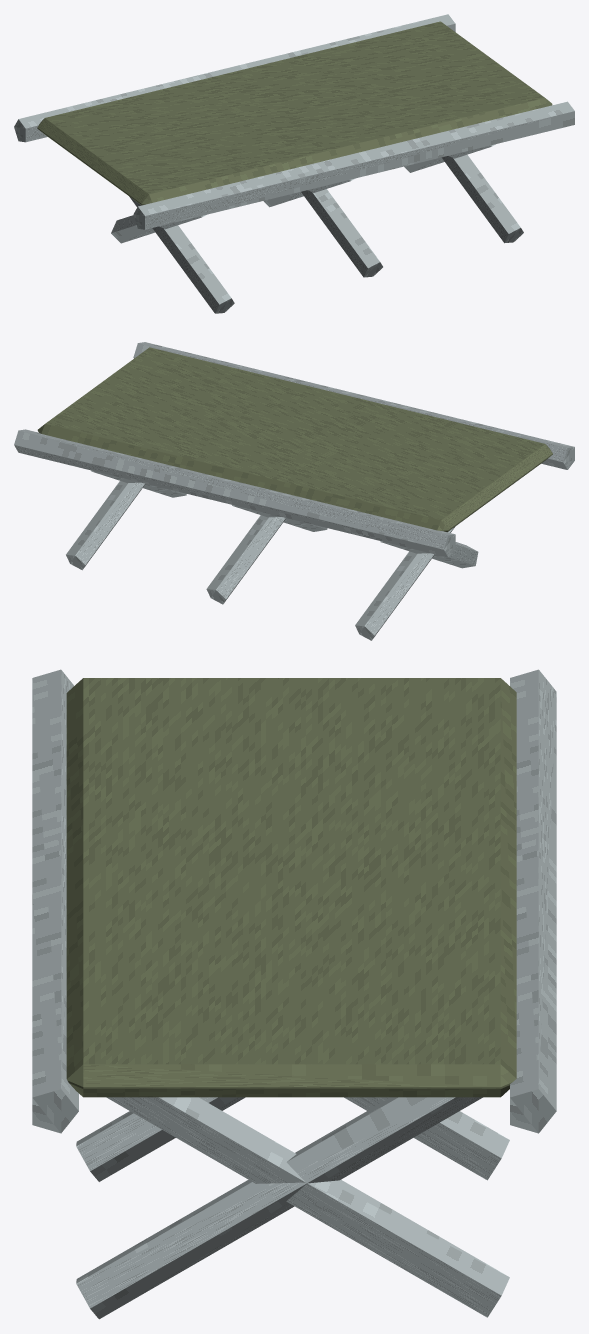
The model's file is cot.glb.
3 views of the same model, one above another, from view 1: azimuth 30°, elevation 25°; view 2: azimuth 150°, elevation 25°; view 3: azimuth 270°, elevation 25° (orthographic). The views are drawn at different scales.
Parts seen in each view (by area): view 1: block_stretched canvas sling, block_aluminum side rail 0 (×2), block_folding leg 0 (×6); view 2: block_stretched canvas sling, block_aluminum side rail 0 (×2), block_folding leg 0 (×6); view 3: block_stretched canvas sling, block_folding leg 0 (×4), block_aluminum side rail 0 (×2).
Part boxes in pixels (x1,y1,x2,y2): block_stretched canvas sling: [37, 21, 552, 205]; block_aluminum side rail 0 (×2): [14, 14, 574, 229]; block_folding leg 0 (×6): [111, 144, 523, 313]; block_stretched canvas sling: [37, 347, 552, 532]; block_aluminum side rail 0 (×2): [14, 342, 574, 557]; block_folding leg 0 (×6): [66, 470, 478, 640]; block_stretched canvas sling: [66, 678, 516, 1097]; block_folding leg 0 (×4): [76, 1097, 509, 1319]; block_aluminum side rail 0 (×2): [32, 669, 556, 1133].
Size of the model in its own units: 1 by 0.3132 by 0.5281.
Materials: 1 (1 with a texture image).
